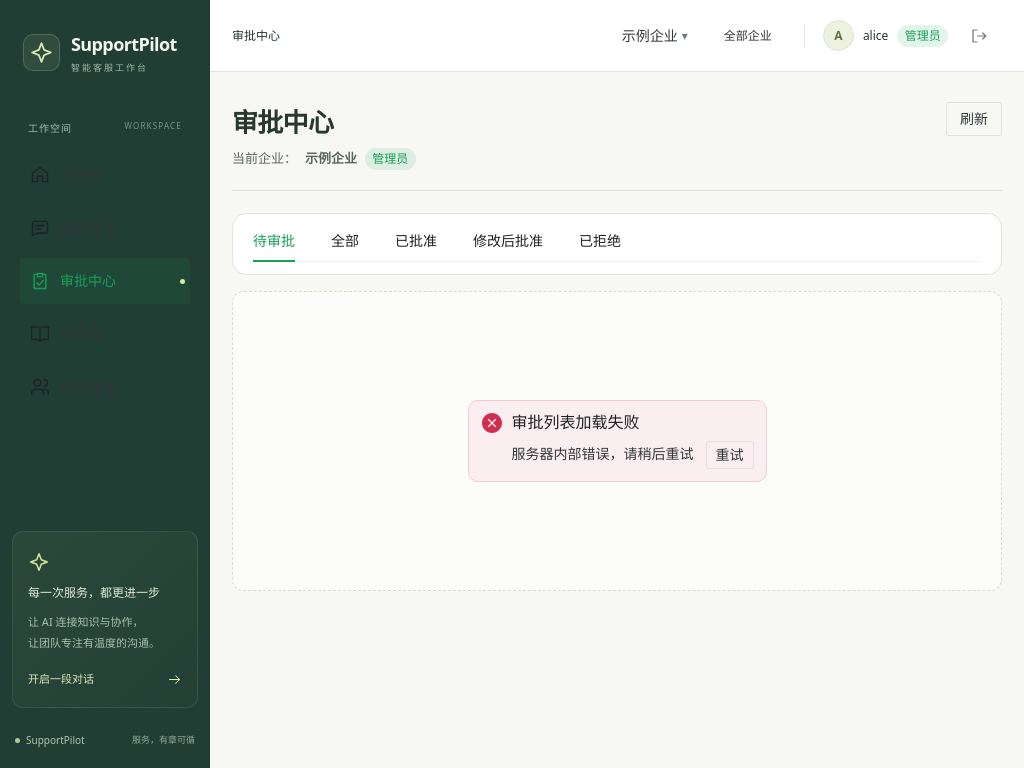
Test: ApprovalListView 列表渲染 › 加载失败展示错误与重试，点击重试恢复
This screenshot has width=1024, height=768.
Click the button with test id "retry-approvals" at [730, 455], box [706,441,754,469]
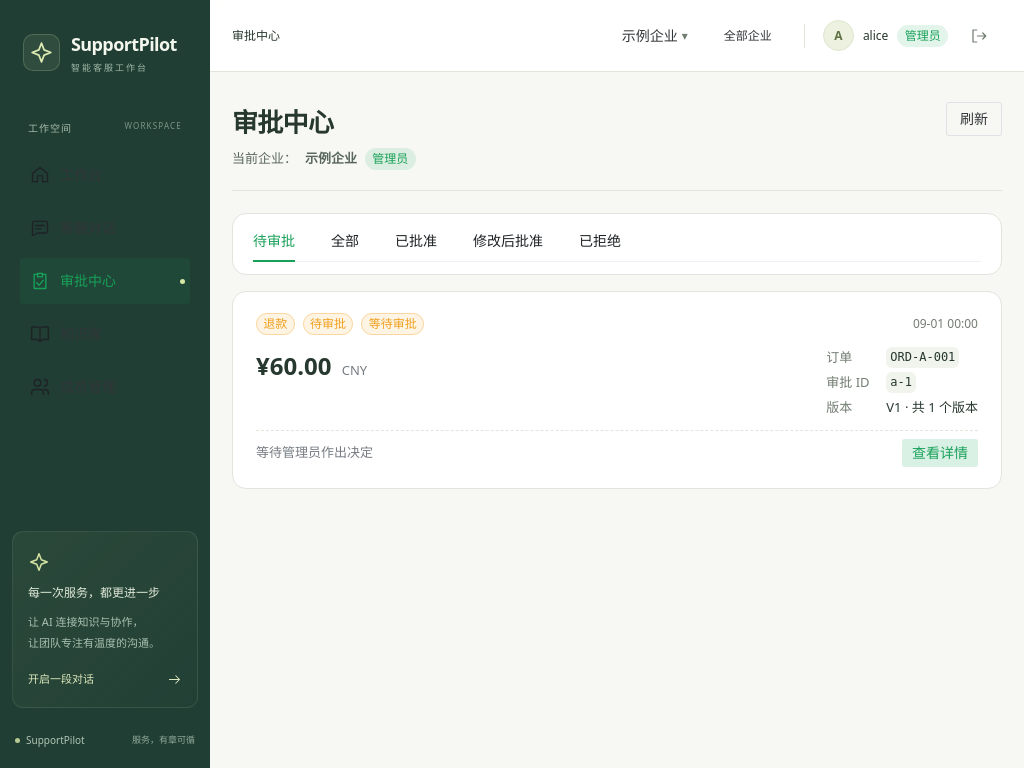
Now the element with test id "approval-list" is shown, box [232,291,1002,489]
